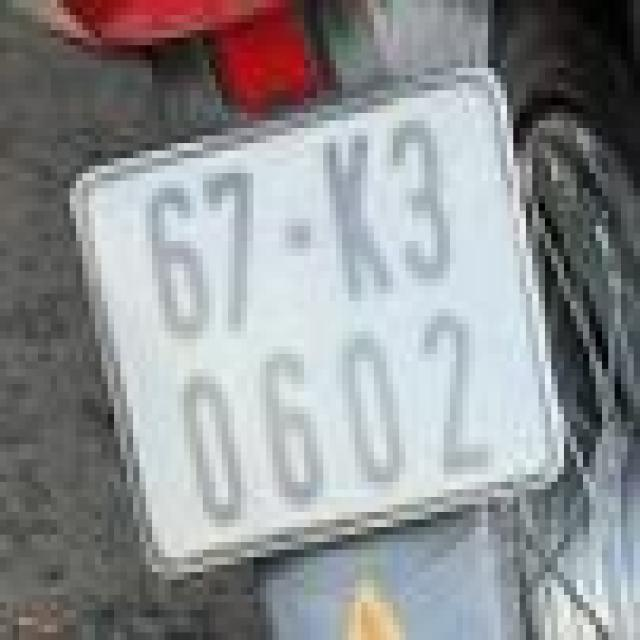0: (163, 353, 260, 534), (328, 321, 418, 495)
2: (408, 294, 503, 482)
3: (376, 104, 465, 289)
6: (239, 335, 337, 513), (135, 167, 218, 351)
7: (200, 151, 278, 342)
K: (307, 122, 405, 308)
